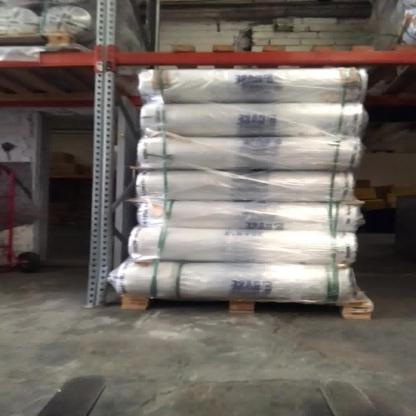vertical_damage: (78, 262, 116, 311)
